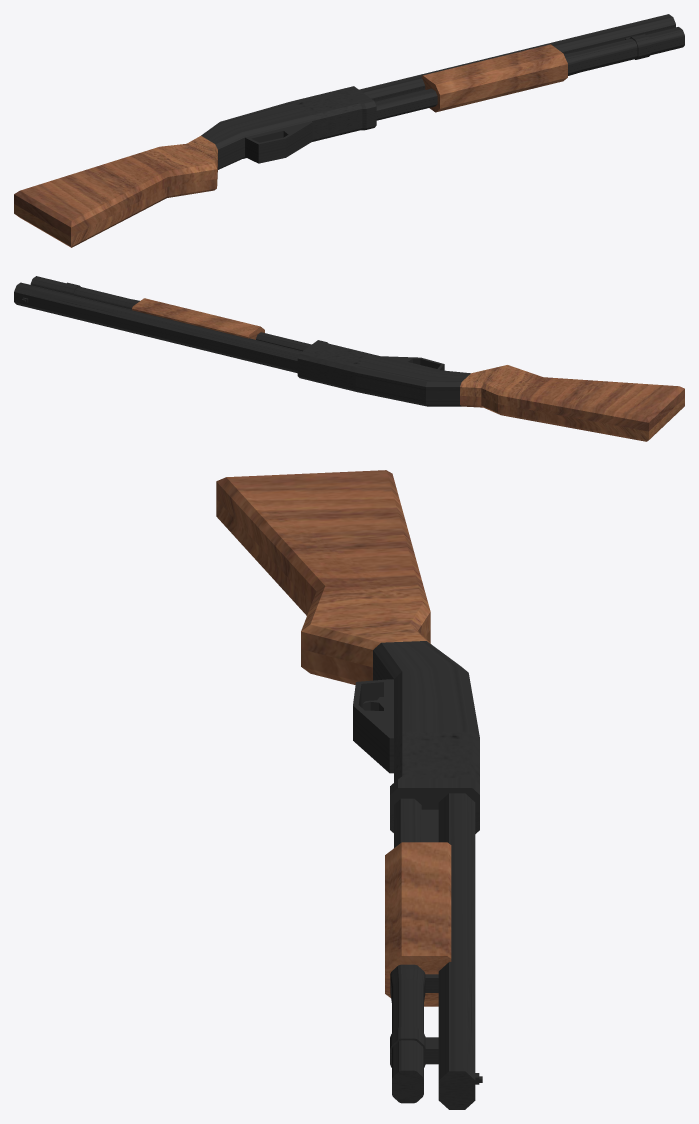
File: shotgun-only.glb
3 views of the same model, one above another, from view 1: azimuth 30°, elevation 25°; view 2: azimuth 150°, elevation 25°; view 3: azimuth 270°, elevation 25° (orthographic). The views are drawn at different scales.
Parts seen in each view (by area): view 1: Cube.001; view 2: Cube.001; view 3: Cube.001.
Part boxes in pixels (x1=…): Cube.001: x1=14, y1=14, x2=684, y2=247; Cube.001: x1=14, y1=276, x2=684, y2=441; Cube.001: x1=216, y1=470, x2=482, y2=1109.
Bounding box in the file's own units: 1.53 × 0.0603 × 0.288.
2 materials, 2 textured.
